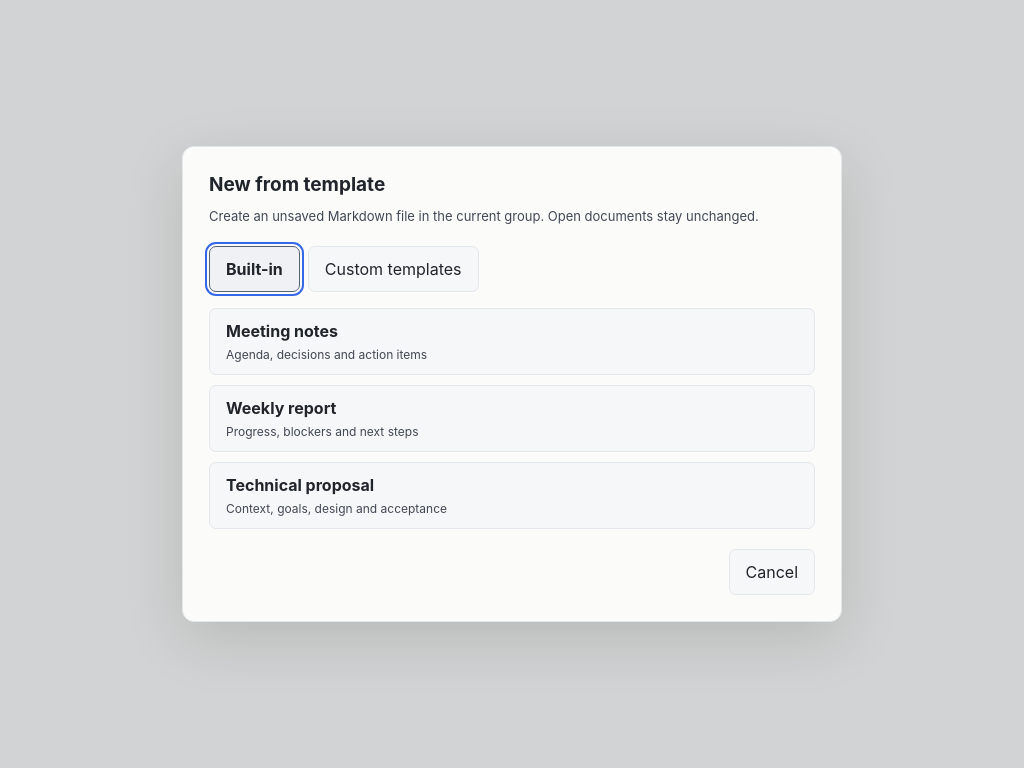
Test case: template library dialog › reports incomplete lists, refreshes after external additions, and surfaces read failures
Click the tab "Custom templates" at (393, 269), box [308, 246, 478, 292]
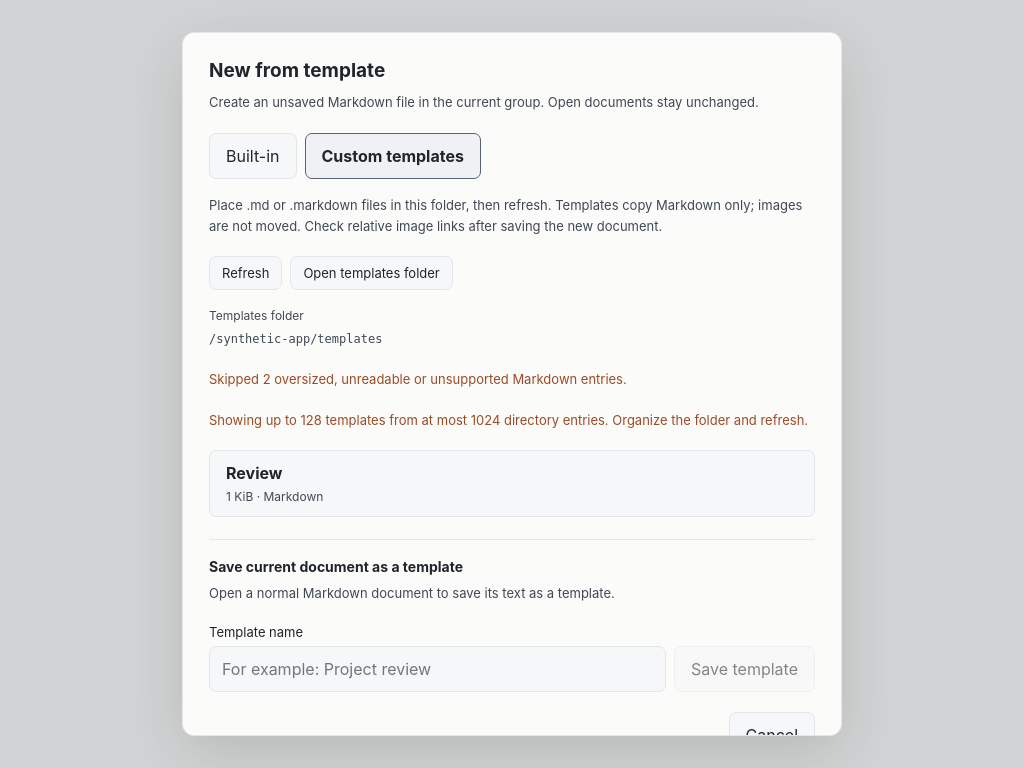
Expected: the button "Refresh" is enabled
Expected: the text "Skipped 2" is shown, [209, 371, 627, 387]
Expected: the text "Showing up to 128" is shown, [209, 412, 808, 428]
Click the button "Refresh" at (246, 273), box [209, 256, 282, 290]
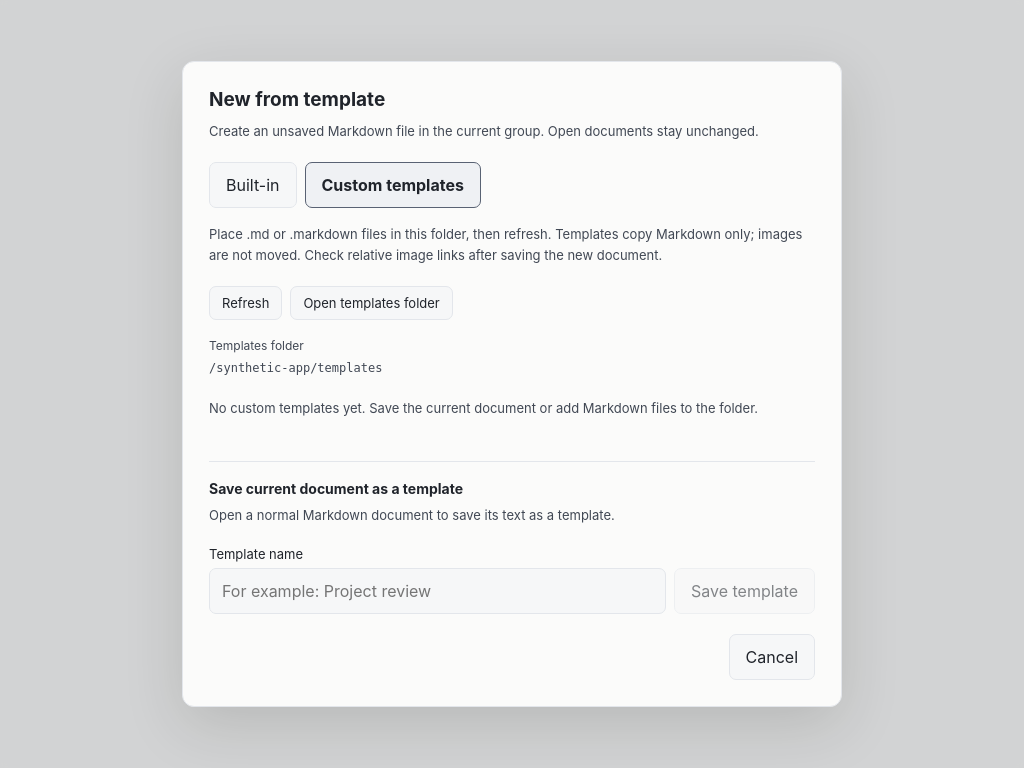
Expected: the text "No custom templates yet" is shown, [209, 400, 758, 416]
Click the button "Refresh" at (246, 303), box [209, 286, 282, 320]
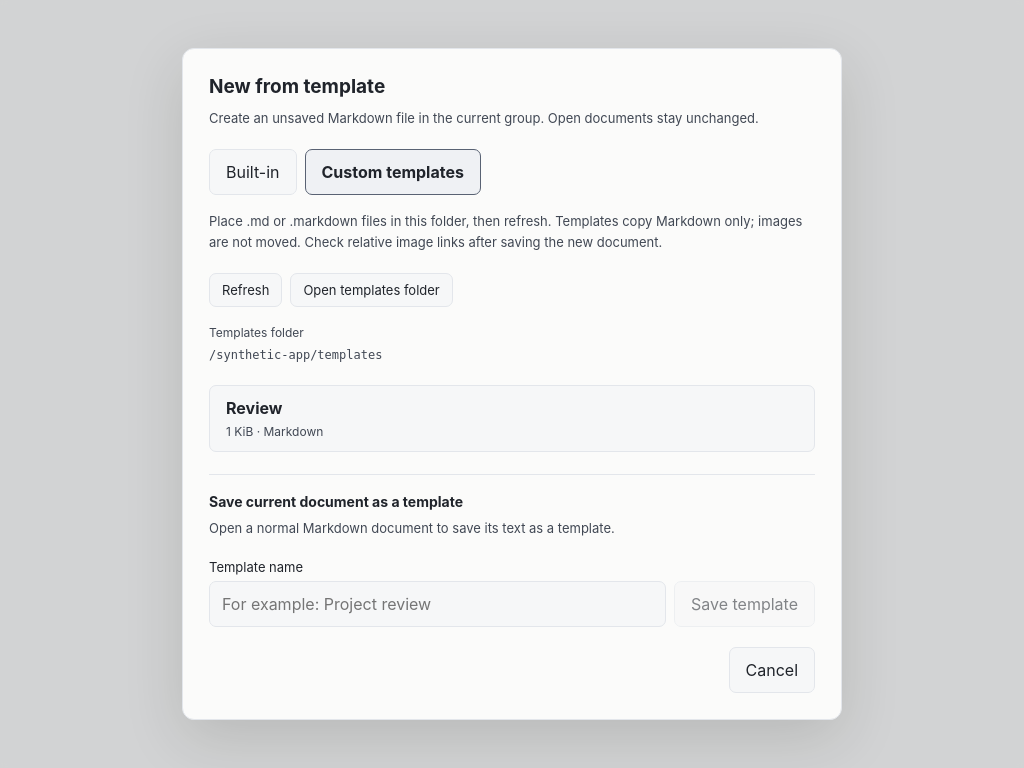
Expected: the button "Review 1 KiB · Markdown" is shown
Click the button "Review 1 KiB · Markdown" at (254, 408), box [209, 385, 815, 452]
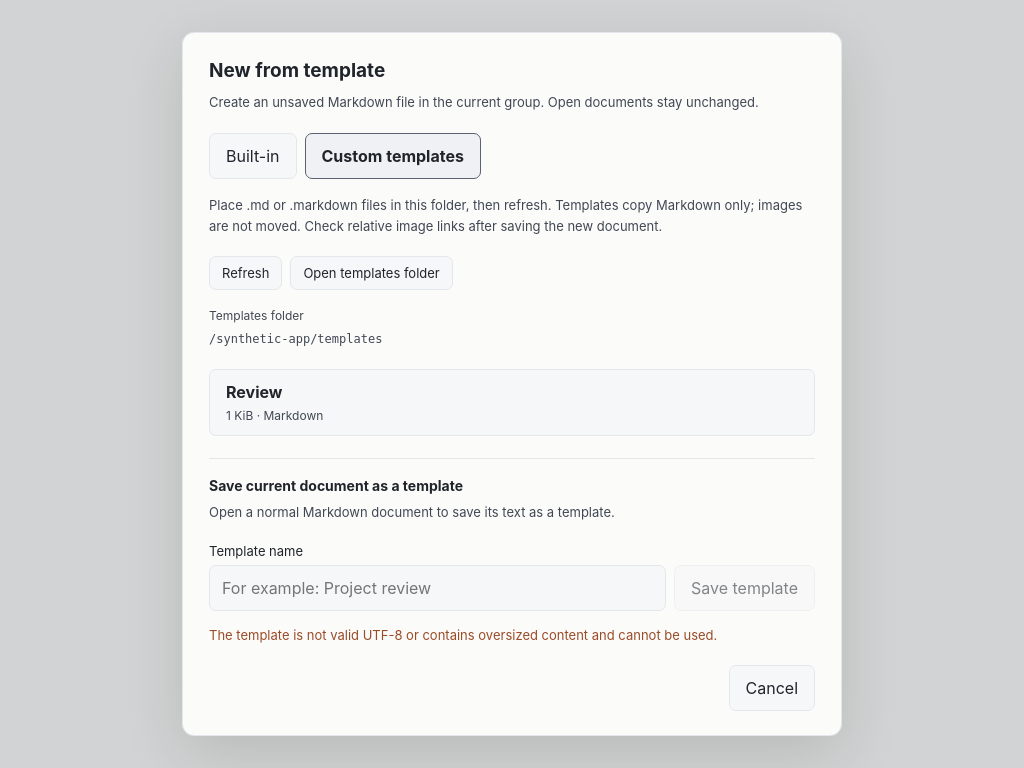
Expected: the message shows "not valid UTF-8", [209, 627, 717, 643]
